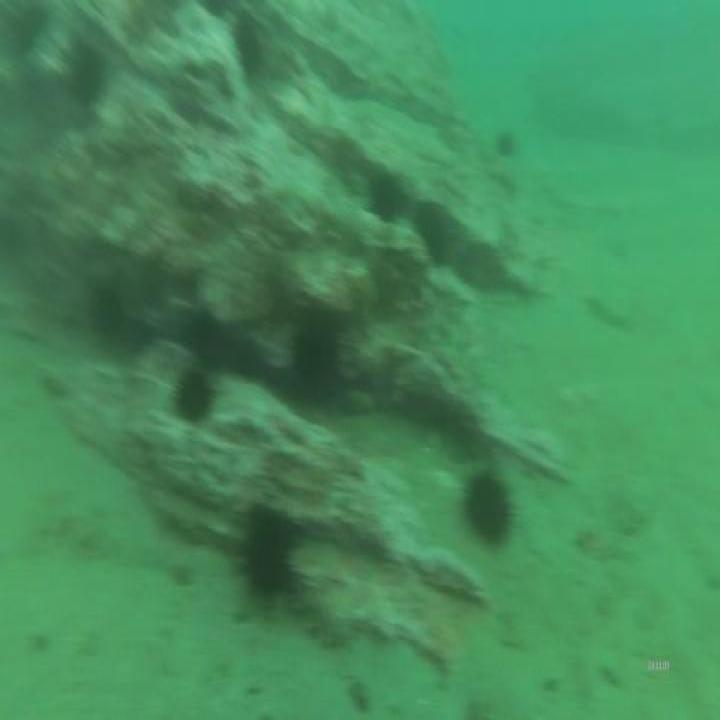echinus: (240, 492, 294, 614), (285, 302, 345, 409), (169, 352, 228, 436), (466, 462, 513, 560), (68, 30, 104, 105), (233, 7, 262, 77), (370, 158, 399, 222), (423, 201, 446, 270)
